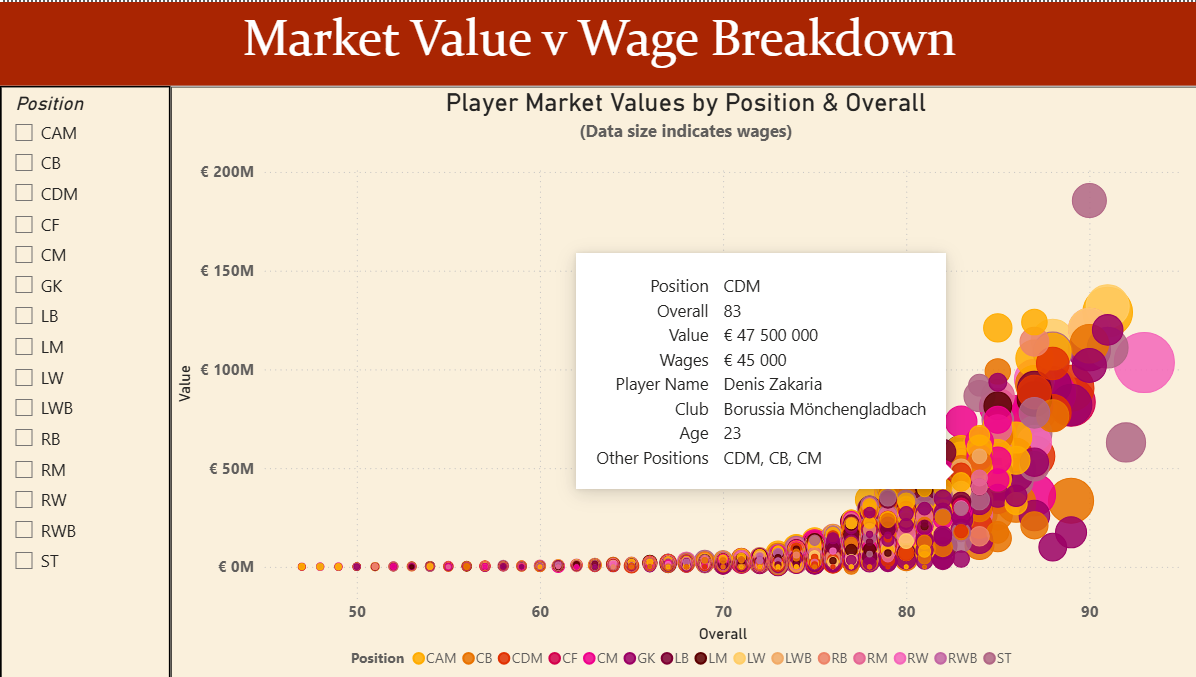

Layout of this report page (visuals, bound fields, positions):
{"tool":"powerbi","page":{"name":"Page 3","canvas":[1280,720],"ordinal":2},"visuals":[{"type":"scatterChart","title":"Player Market Values by Position","fields":{"X":["fifa_clean_data.?OVA"],"Y":["fifa_clean_data.Value(Euros)"],"Series":["fifa_clean_data.Best Position"]},"box":[152.3,79.1,610.5,464],"z":0},{"type":"slicer","fields":{"Values":["fifa_clean_data.Best Position"]},"box":[0,79.1,161.6,464],"z":1000}]}

Visuals, with their boxes in screenshot pixels (x1, y1, x2, y2), scaled from the page's 1280x720 canvas onto the 1196x677 screenshot:
"Player Market Values by Position" scatterChart: left=142, top=74, right=713, bottom=511
slicer - fifa_clean_data.Best Position: left=0, top=74, right=151, bottom=511
